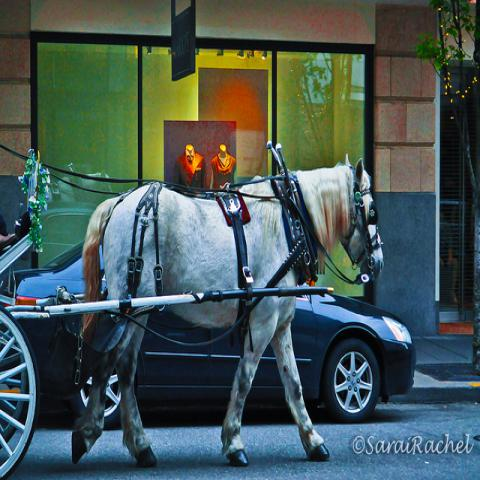car: (15, 237, 416, 422)
